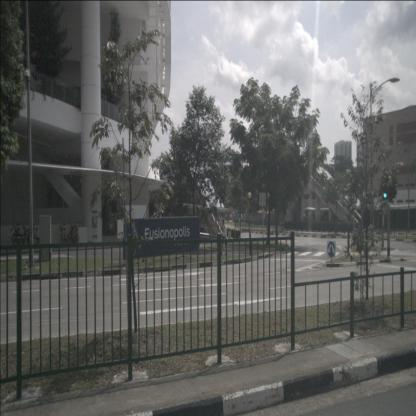human-pedestrian-adult: (220, 219, 227, 256)
